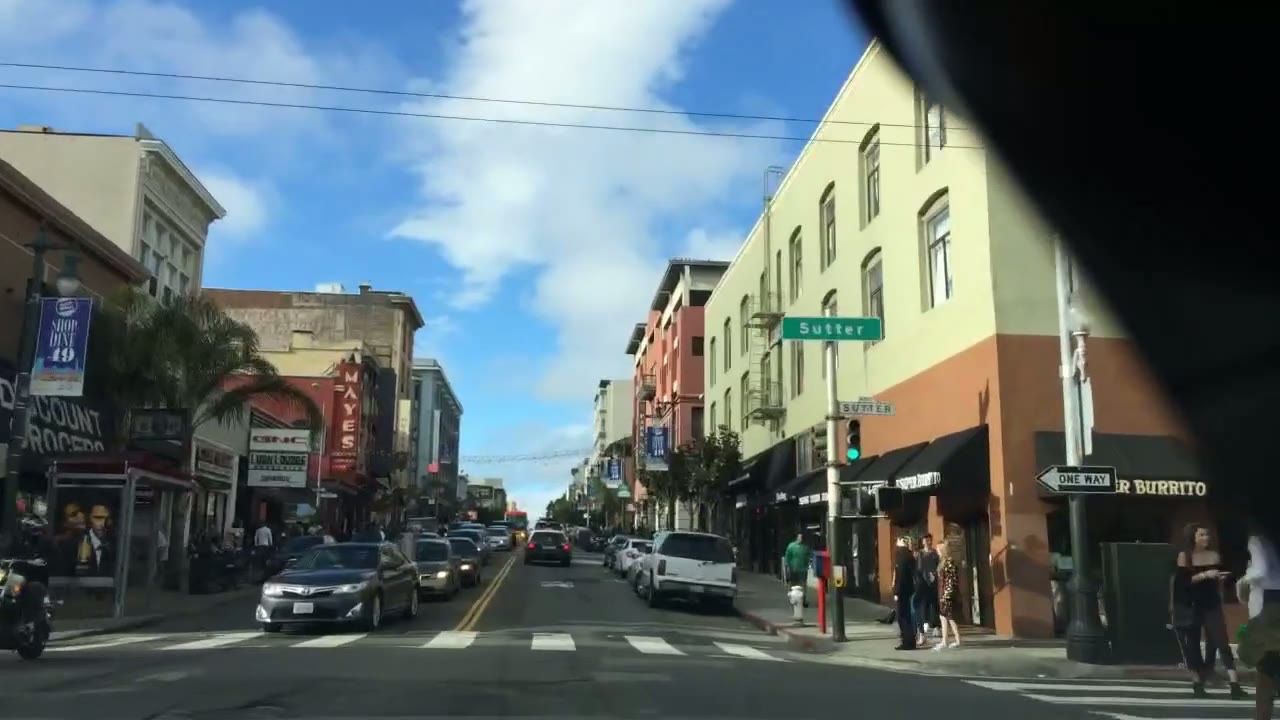bike: (0, 511, 64, 660)
car: (254, 539, 422, 633), (633, 530, 737, 610), (413, 538, 461, 601), (523, 528, 572, 567), (447, 536, 483, 587), (613, 537, 654, 578), (486, 527, 511, 550)
pedestrian: (1173, 521, 1250, 700), (1234, 532, 1280, 720), (930, 538, 961, 652), (890, 534, 916, 651), (915, 532, 941, 637), (782, 531, 813, 609), (399, 519, 424, 562)
